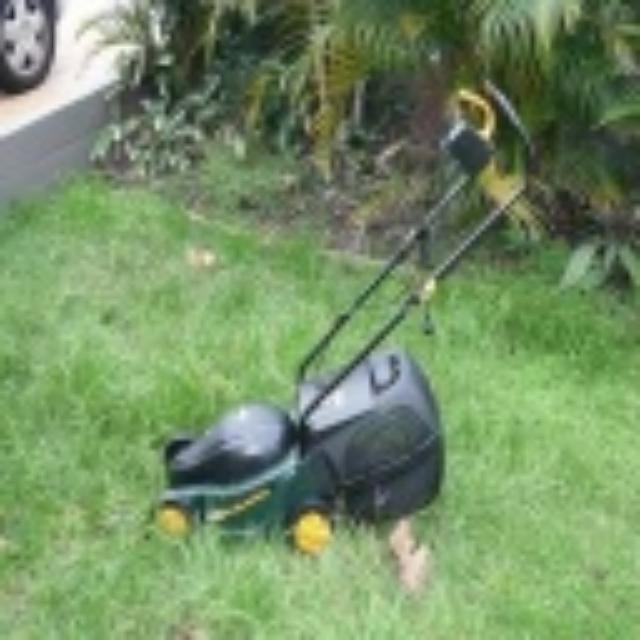Rotary-Mower: (145, 75, 550, 580)
